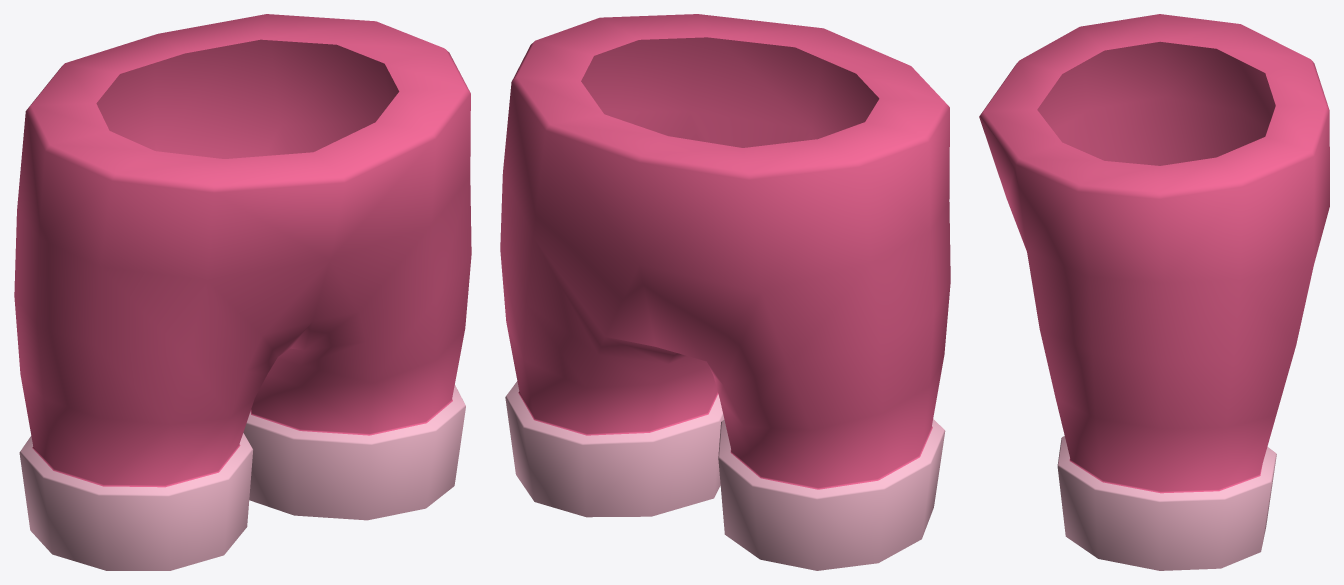
The model's file is Pants_Pink_002.glb.
3 views of the same model, side by side, from view 1: azimuth 30°, elevation 25°; view 2: azimuth 150°, elevation 25°; view 3: azimuth 270°, elevation 25° (orthographic). The views are drawn at different scales.
Parts seen in each view (by area): view 1: Pants_Pink_002; view 2: Pants_Pink_002; view 3: Pants_Pink_002.
Part boxes in pixels (<box>): Pants_Pink_002: <box>14,14,471,570</box>; Pants_Pink_002: <box>500,14,950,570</box>; Pants_Pink_002: <box>979,14,1329,570</box>.
Bounding box in the file's own units: 0.4529 × 0.4315 × 0.3561.
Materials: 1 (1 with a texture image).
